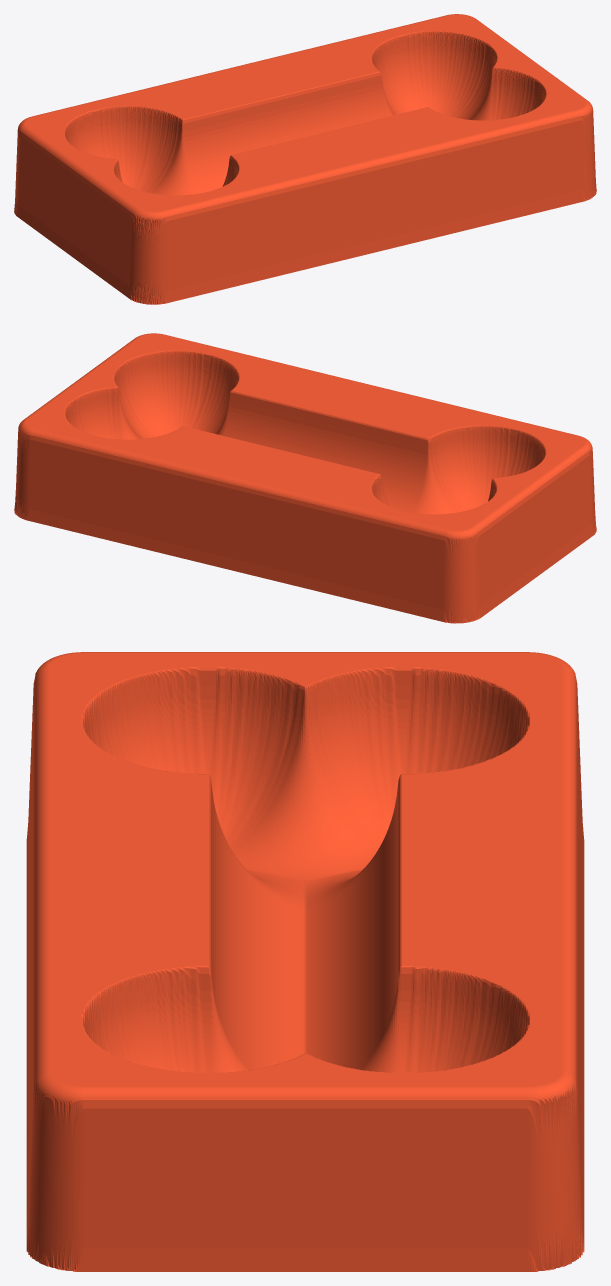
Rendered from mold.glb.
3 renders of one model, top to bottom at view 1: azimuth 30°, elevation 25°; view 2: azimuth 150°, elevation 25°; view 3: azimuth 270°, elevation 25°, orthographic. The views are drawn at different scales.
Visible parts, largest first — view 1: geometry_0; view 2: geometry_0; view 3: geometry_0.
Part boxes in pixels (<box>): geometry_0: <box>14,14,596,304</box>; geometry_0: <box>14,333,596,623</box>; geometry_0: <box>26,652,584,1271</box>.
Size of the model in its own units: 0.1709 by 0.031 by 0.0891.
